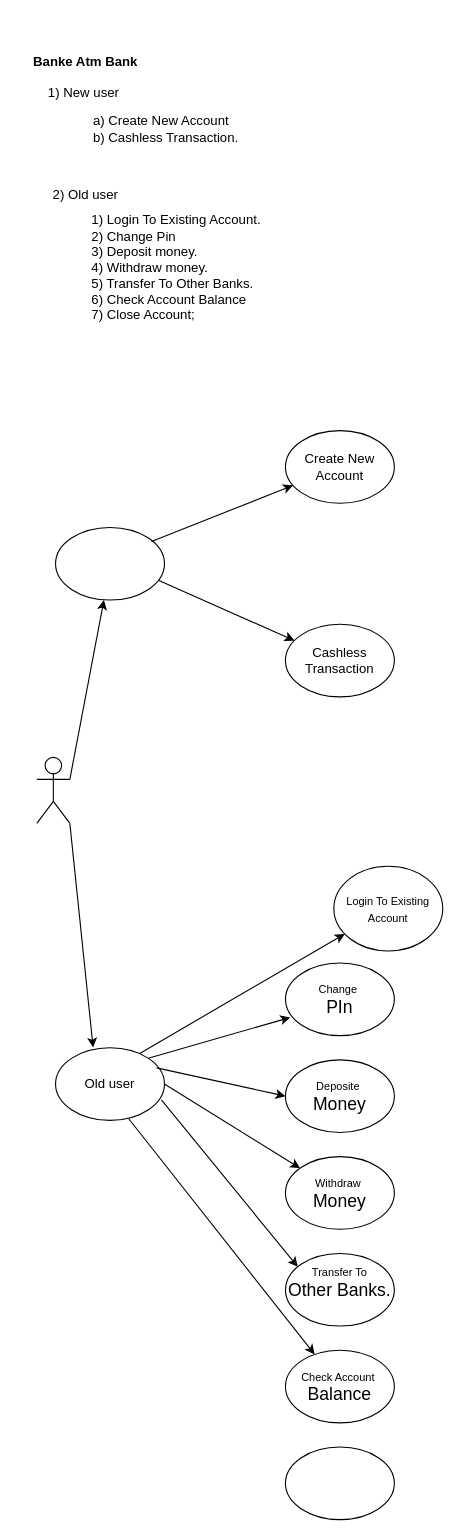
Image size: 462x1539. Some labels were removed from this diagram. The centre of each missing label's shape, as x and y in pixels:
Actor: point 53,789
Close Account: point 339,1483
New user: point 109,563
